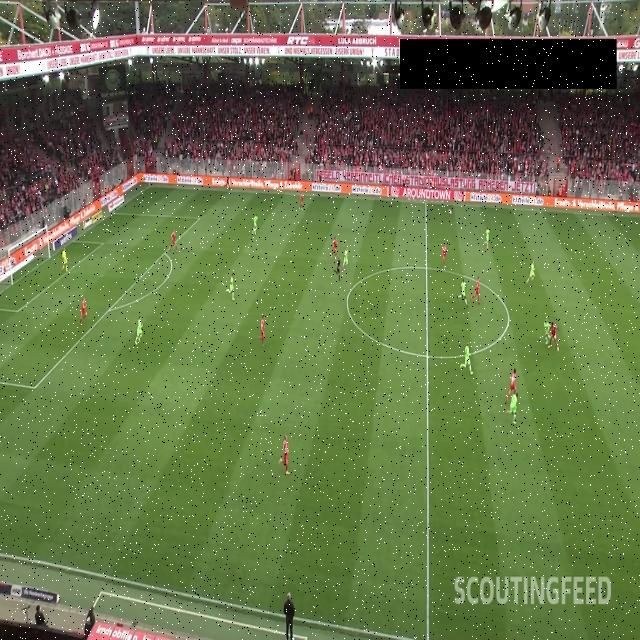Ball: (449, 209, 452, 214)
GoalKeeper: (61, 247, 69, 273)
Referee: (333, 255, 342, 282), (224, 176, 231, 190)
TEAM 1: (507, 366, 521, 398), (280, 436, 290, 478), (548, 322, 560, 352), (471, 276, 481, 304), (169, 228, 179, 254), (260, 316, 268, 347), (80, 298, 88, 324), (330, 236, 339, 259), (441, 246, 449, 271), (299, 192, 305, 212)
TEAM 2: (459, 342, 474, 374), (504, 391, 518, 425), (456, 276, 468, 306), (134, 316, 144, 346), (226, 272, 235, 300), (526, 262, 536, 286), (543, 317, 551, 345), (251, 216, 259, 237), (342, 247, 349, 268), (484, 229, 491, 250)
